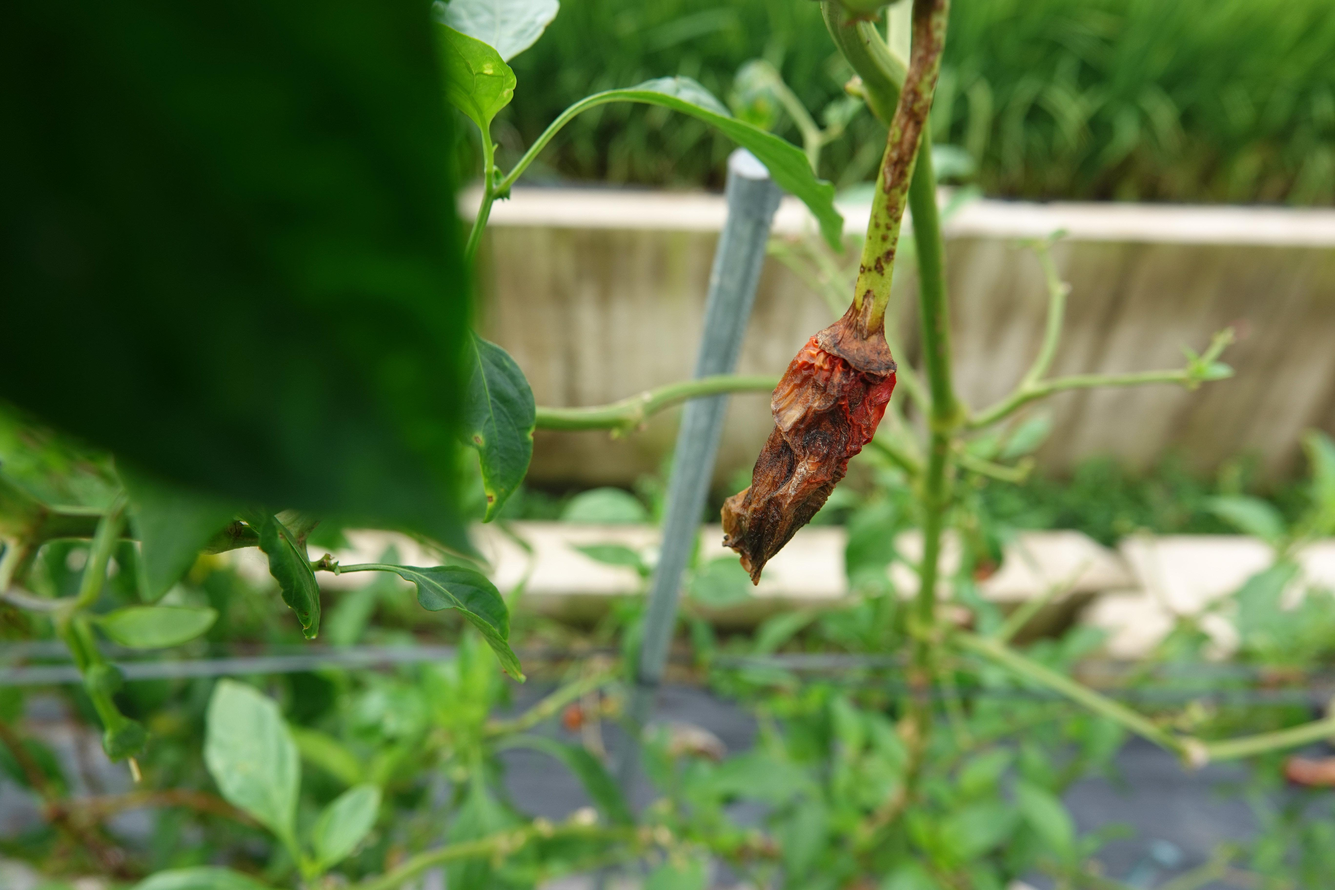Busuk Buah Antraknosa: (718, 306, 899, 587)
